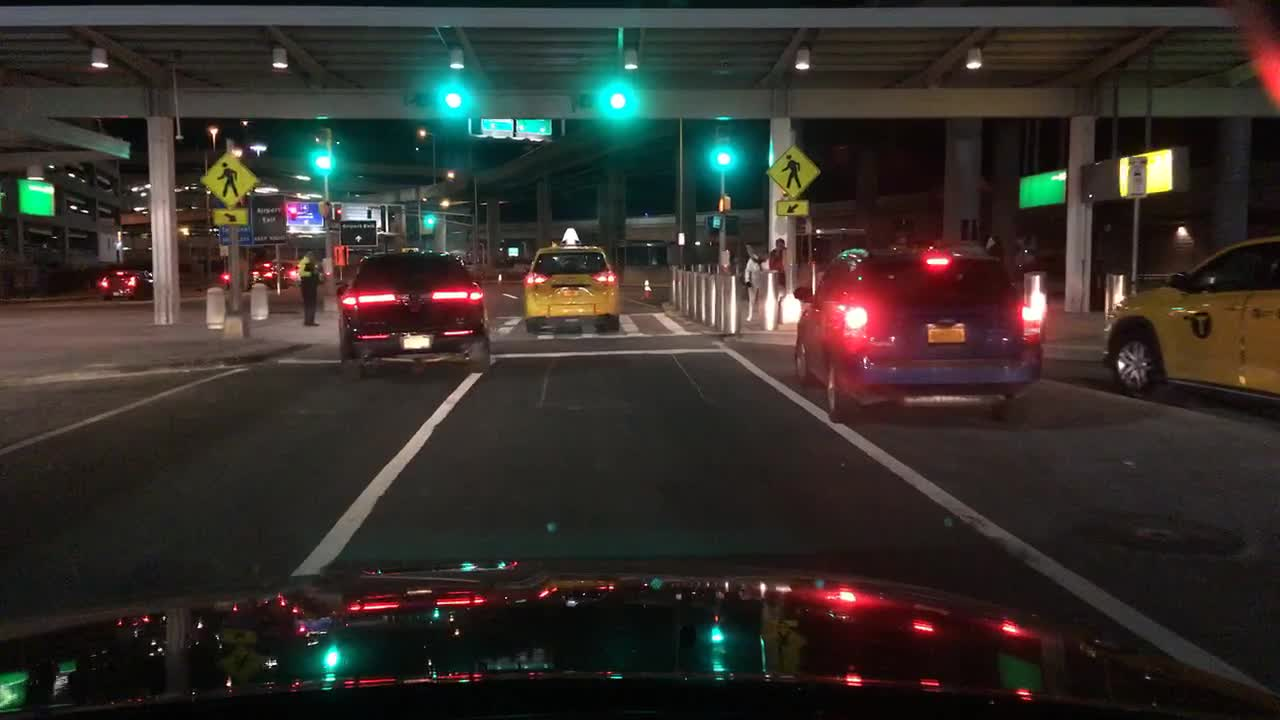car: (792, 245, 1040, 421), (1103, 233, 1278, 403), (331, 249, 495, 376), (522, 225, 622, 334), (97, 263, 154, 299), (223, 267, 262, 288), (257, 264, 291, 286)
person: (741, 245, 766, 324), (299, 248, 321, 326), (769, 239, 788, 286), (984, 234, 1000, 269)
traffic light: (401, 91, 466, 108), (572, 93, 630, 109), (714, 126, 731, 167), (314, 132, 322, 170), (424, 212, 436, 227), (717, 194, 729, 209), (678, 232, 691, 245), (290, 202, 298, 218)
traffic sign: (202, 153, 257, 208), (767, 144, 819, 197), (252, 202, 289, 245), (341, 203, 384, 227), (286, 200, 324, 227), (338, 222, 376, 248), (772, 199, 812, 217), (515, 120, 554, 136), (1130, 158, 1145, 197), (479, 117, 512, 133), (212, 212, 250, 225), (217, 230, 255, 243), (506, 248, 520, 257)
